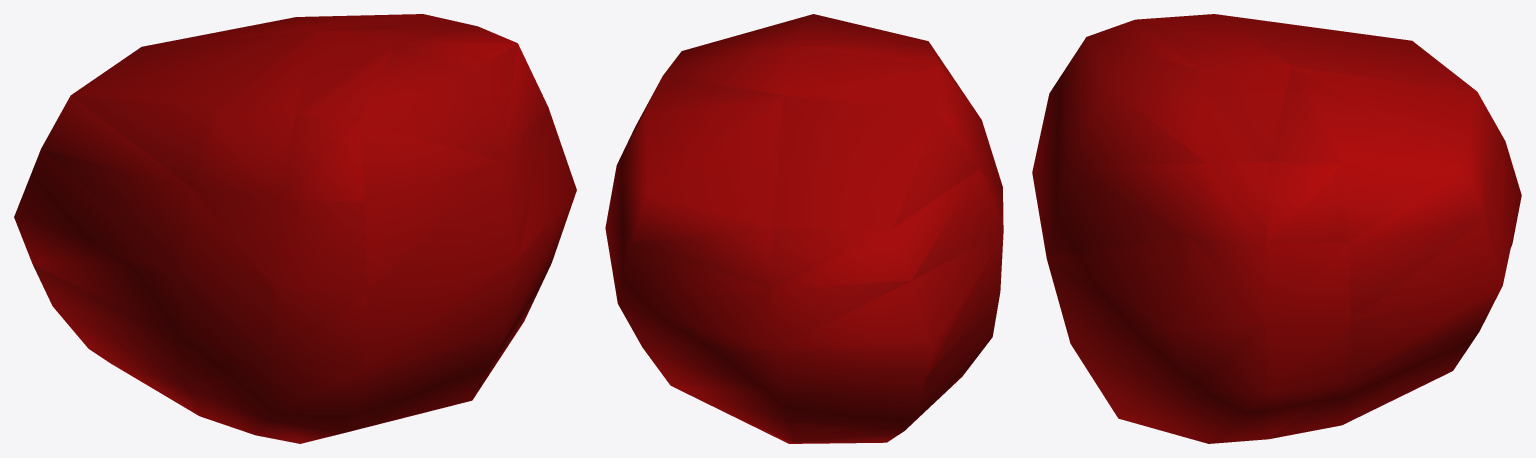
File: geology-pebbles-smallsandchunk_v9.fbx
3 renders of one model, left to right at view 1: azimuth 30°, elevation 25°; view 2: azimuth 150°, elevation 25°; view 3: azimuth 270°, elevation 25°, orthographic. The views are drawn at different scales.
Visible parts, largest first — view 1: SmallSandChunk_v9; view 2: SmallSandChunk_v9; view 3: SmallSandChunk_v9.
Boxes of the visible parts, x1=… form: SmallSandChunk_v9: x1=14, y1=14, x2=576, y2=443; SmallSandChunk_v9: x1=605, y1=14, x2=1003, y2=443; SmallSandChunk_v9: x1=1032, y1=14, x2=1521, y2=443.
Size of the model in its own units: 3 by 2.38 by 2.95.
